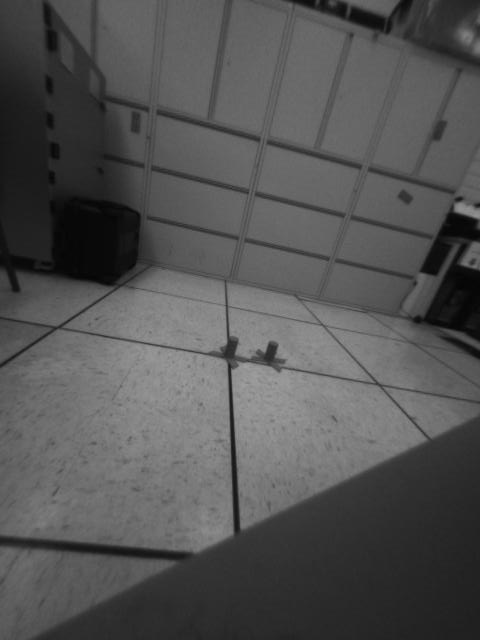X: (206, 336, 250, 371), (246, 340, 288, 374)
